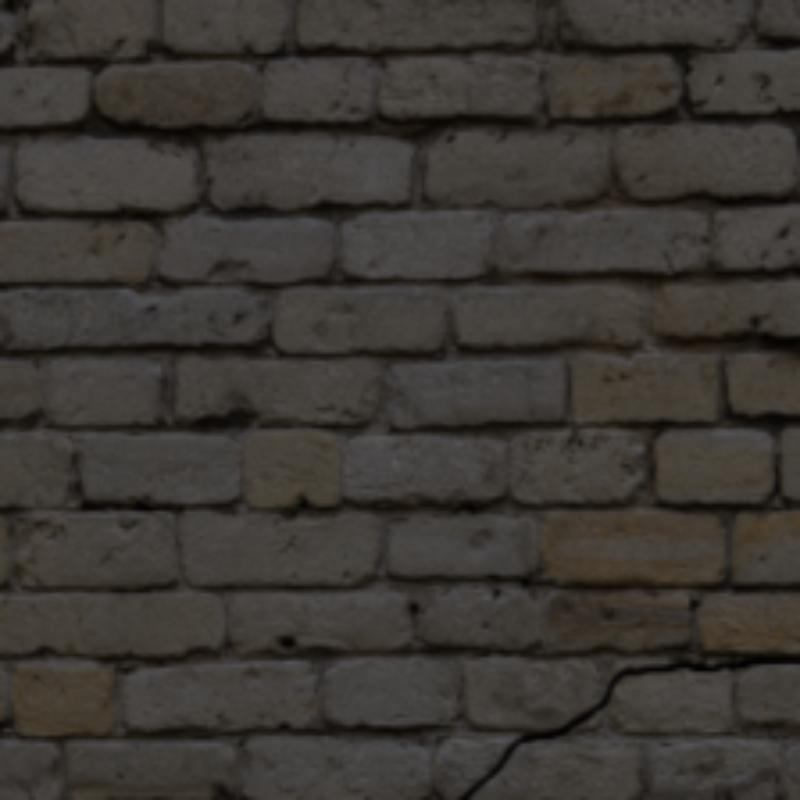pothole: (457, 657, 796, 796)
